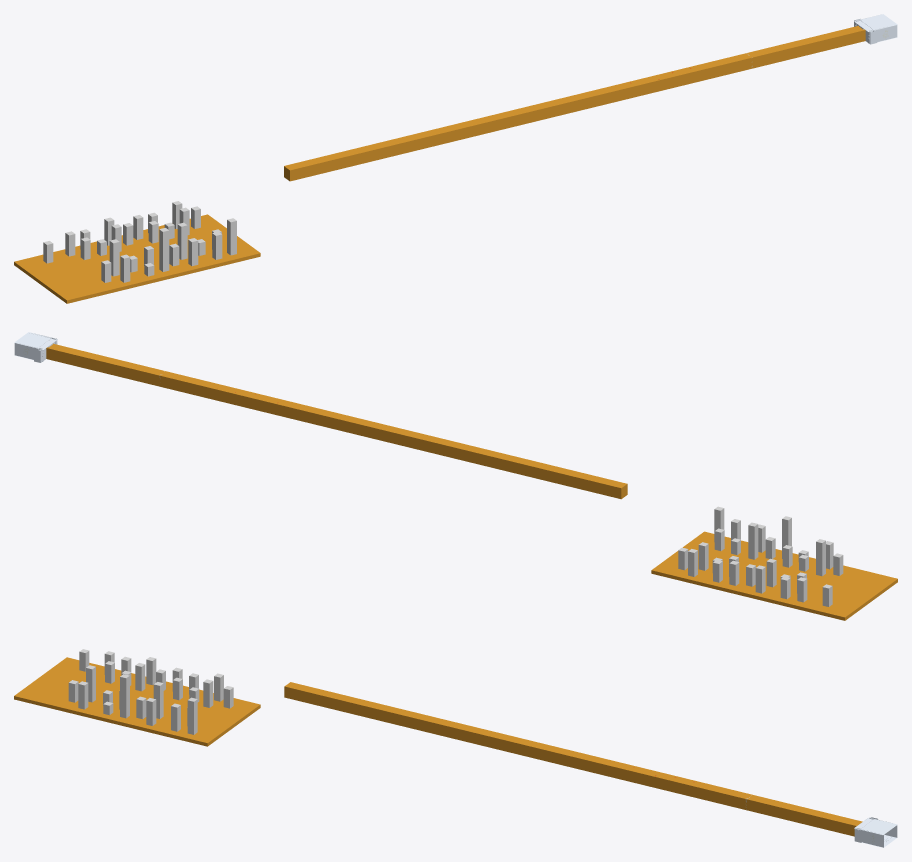
The picture shows the model from 3 angles, top to bottom: view 1: azimuth 30°, elevation 25°; view 2: azimuth 150°, elevation 25°; view 3: azimuth 330°, elevation 25°; orthographic projection.
Visible parts, largest first — view 1: Cube.009, Cube.038; view 2: Cube.009, Cube.038; view 3: Cube.009, Cube.038, Cube.057.
Boxes of the visible parts, x1=… form: Cube.009: x1=284, y1=25, x2=865, y2=181; Cube.038: x1=14, y1=214, x2=260, y2=303; Cube.009: x1=46, y1=343, x2=627, y2=499; Cube.038: x1=651, y1=531, x2=897, y2=620; Cube.009: x1=284, y1=682, x2=862, y2=836; Cube.038: x1=14, y1=657, x2=260, y2=746; Cube.057: x1=120, y1=674, x2=129, y2=718.
Bounding box in the file's own units: 1178 × 76.34 × 127.
